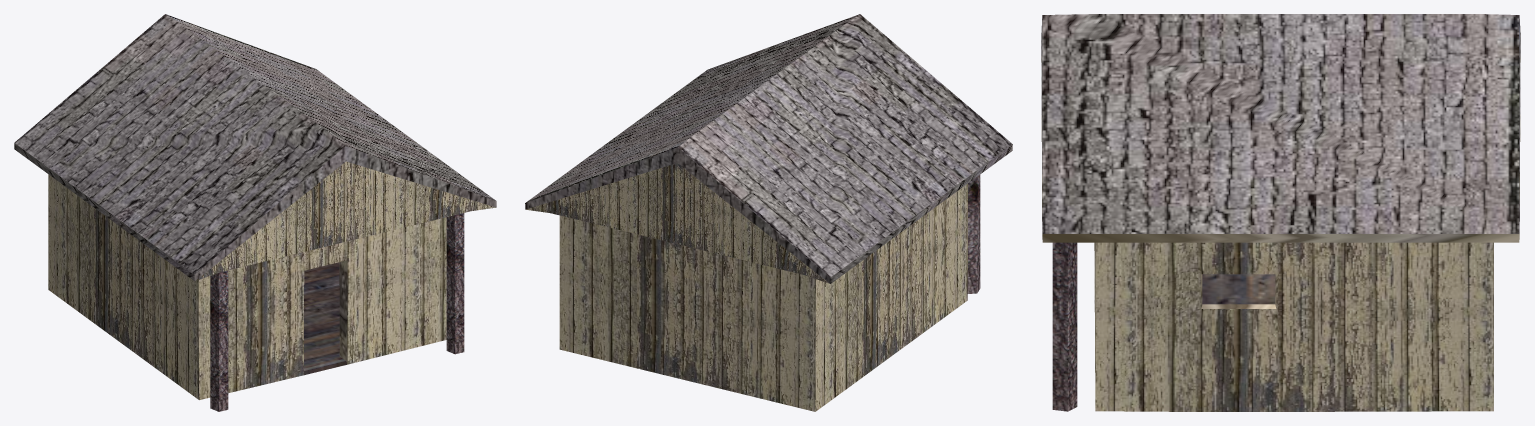
The model's file is fishermans shack.fbx.
The picture shows the model from 3 angles, left to right: view 1: azimuth 30°, elevation 25°; view 2: azimuth 150°, elevation 25°; view 3: azimuth 270°, elevation 25°; orthographic projection. The views are drawn at different scales.
Parts seen in each view (by area): view 1: hOUSE; view 2: hOUSE; view 3: hOUSE.
Boxes of the visible parts, <box> form: hOUSE: <box>14,14,496,411</box>; hOUSE: <box>525,14,1012,411</box>; hOUSE: <box>1041,14,1520,411</box>.
Size of the model in its own units: 481 by 365 by 500.
